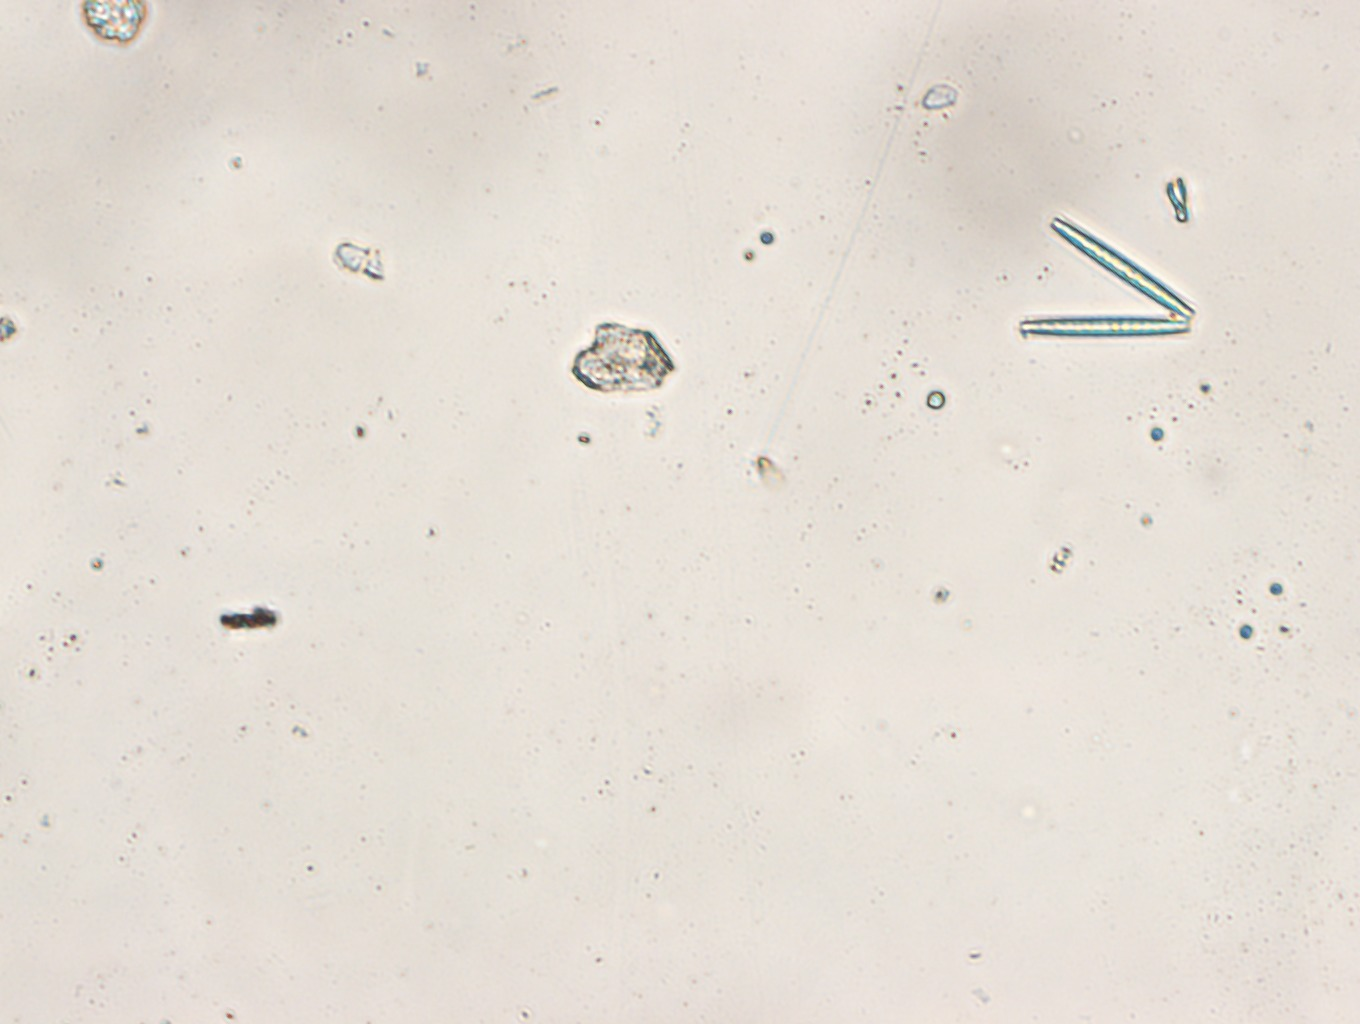thalassionema nitzschioides: (1022, 217, 1198, 337)
